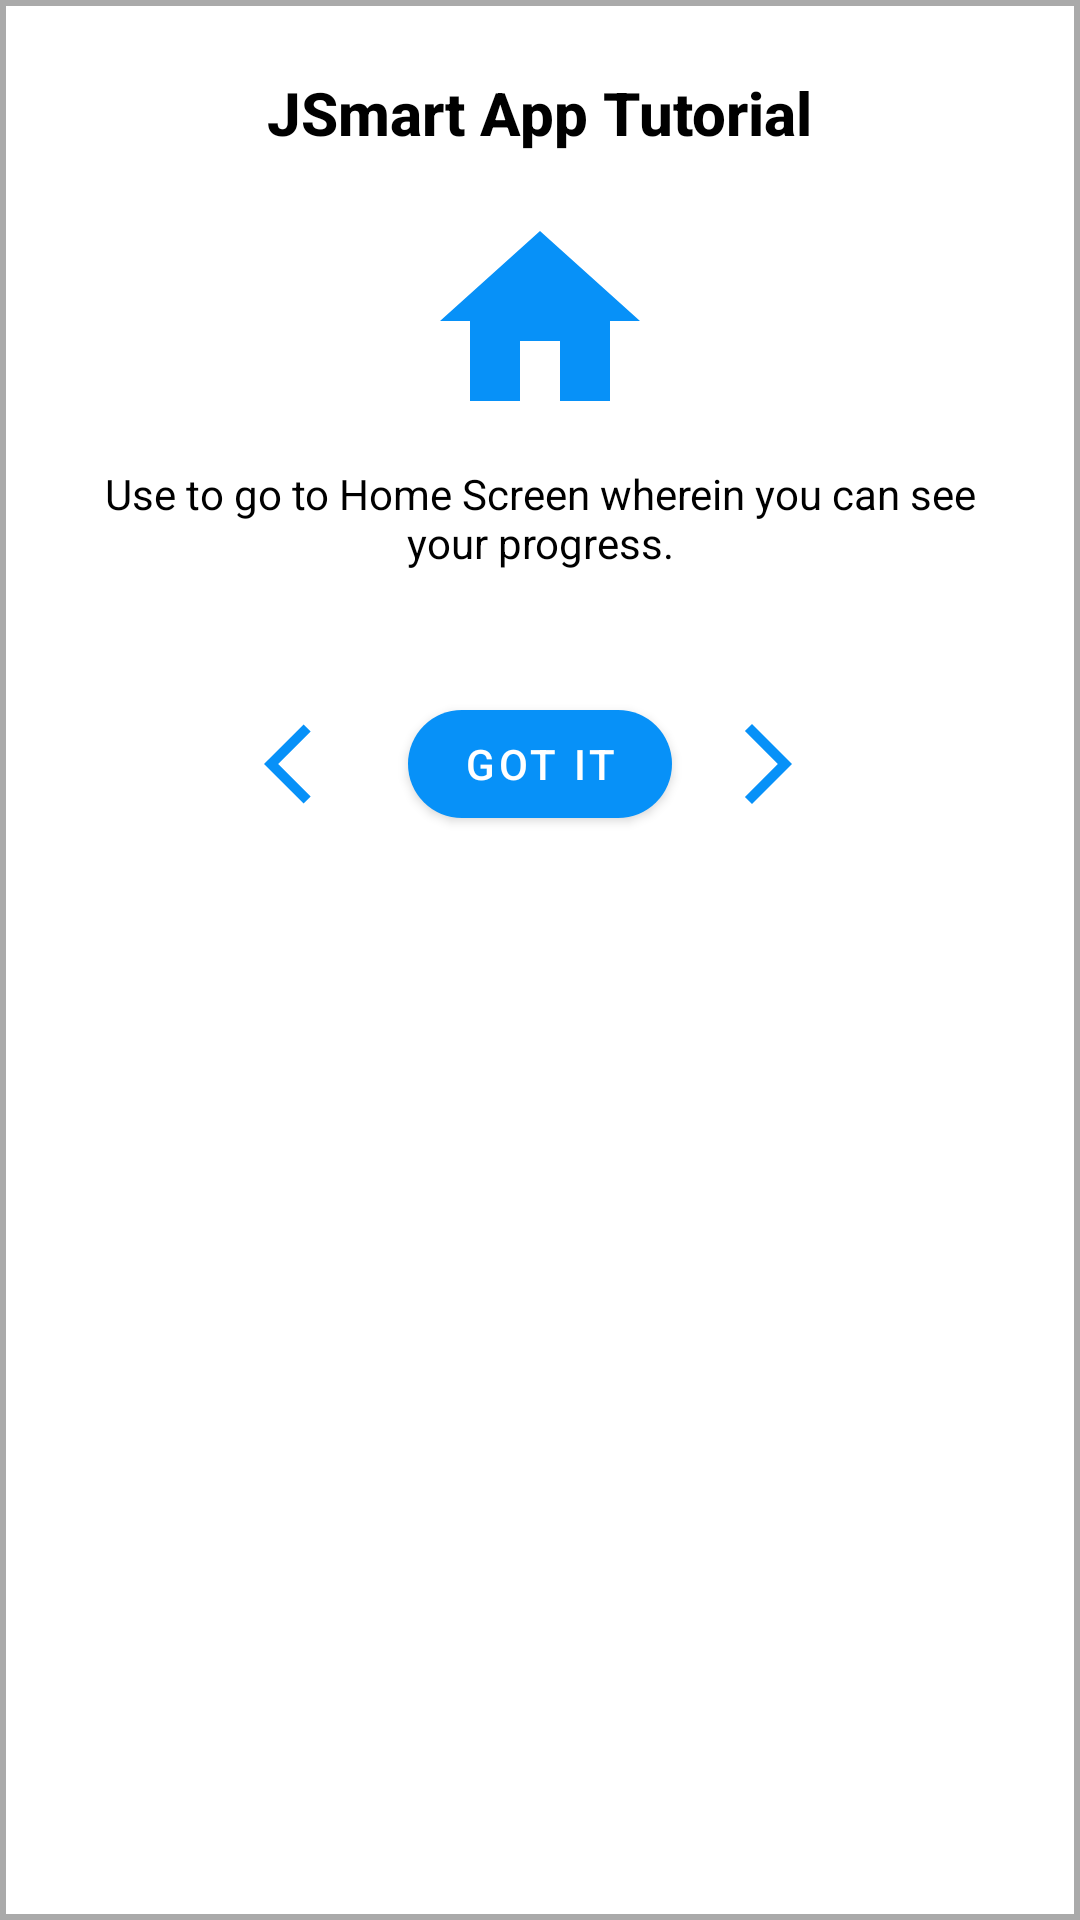

Screen size 1080×1920. Icon name, then its box in pixels as (x1, y1, x2, y2):
Next slide: (745, 724, 792, 804)
Previous slide: (264, 724, 311, 804)
